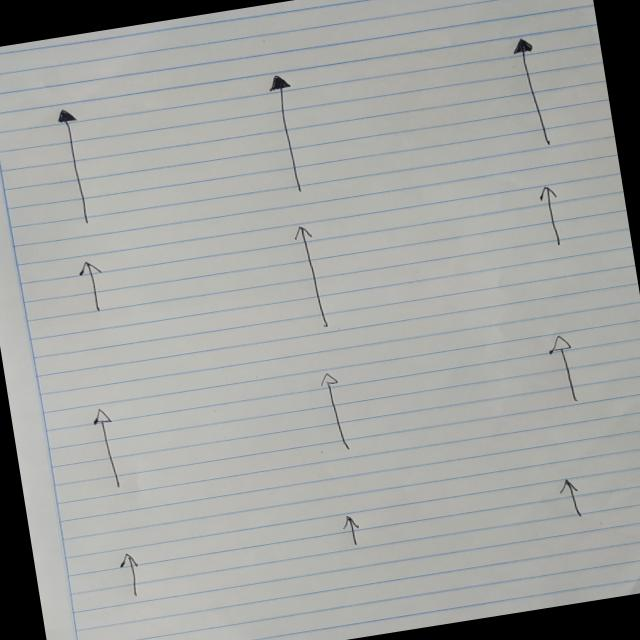arrow_line_up: (510, 34, 557, 150), (265, 72, 308, 197), (54, 105, 94, 228), (290, 222, 332, 332), (90, 406, 126, 492), (318, 368, 354, 454), (546, 332, 584, 407), (533, 182, 566, 251), (74, 258, 108, 316), (556, 476, 588, 522), (116, 552, 144, 602), (338, 512, 364, 552)
